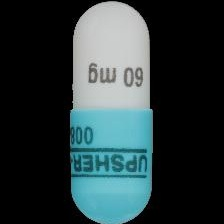0245-0084: (0, 0, 224, 224)
